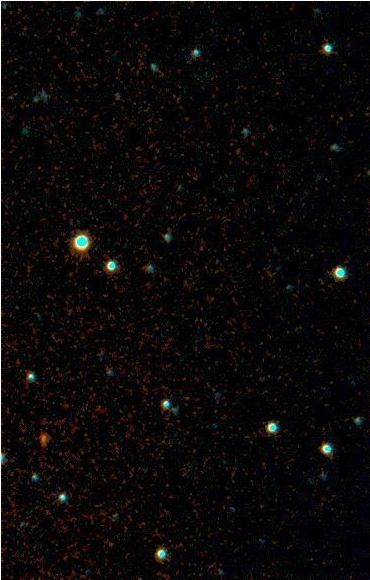star: (28, 421, 58, 451)
